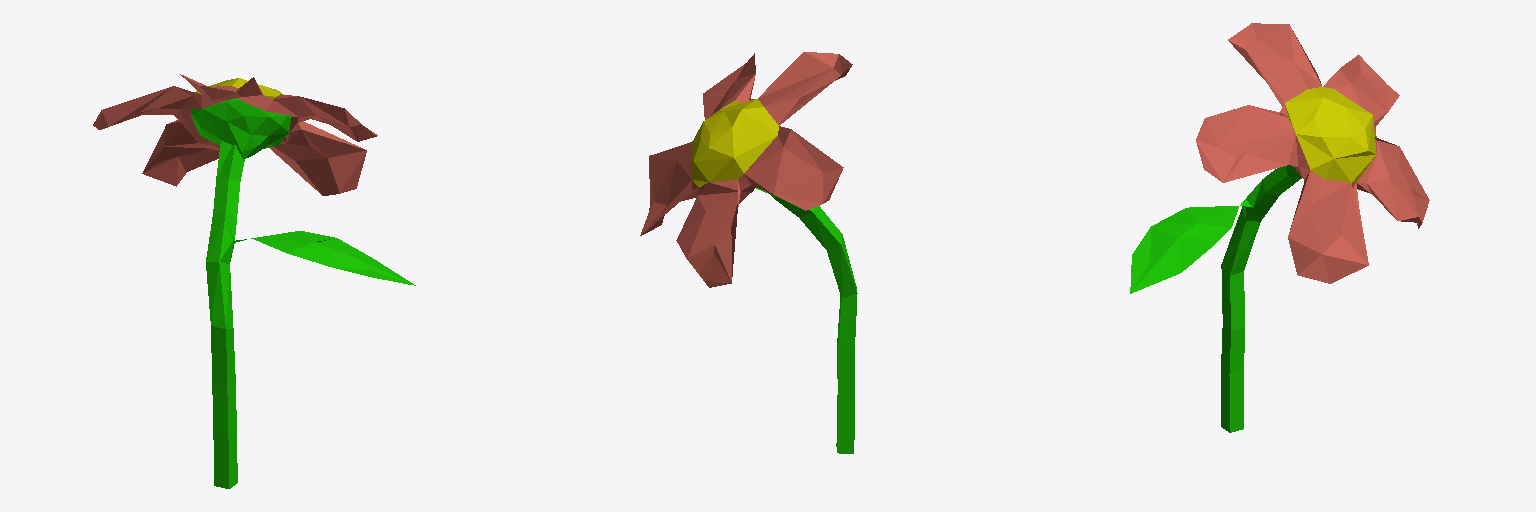
Rendered from Flower2.obj.
3 renders of one model, left to right at view 1: azimuth 30°, elevation 25°; view 2: azimuth 150°, elevation 25°; view 3: azimuth 270°, elevation 25°, orthographic.
Visible parts, largest first — view 1: Flower2_Plane.613; view 2: Flower2_Plane.613; view 3: Flower2_Plane.613.
Part boxes in pixels (x1,y1,x2,y2): Flower2_Plane.613: (93,74,415,488); Flower2_Plane.613: (640,52,857,453); Flower2_Plane.613: (1130,23,1429,432).
Size of the model in its own units: 0.8978 by 1.48 by 1.01.